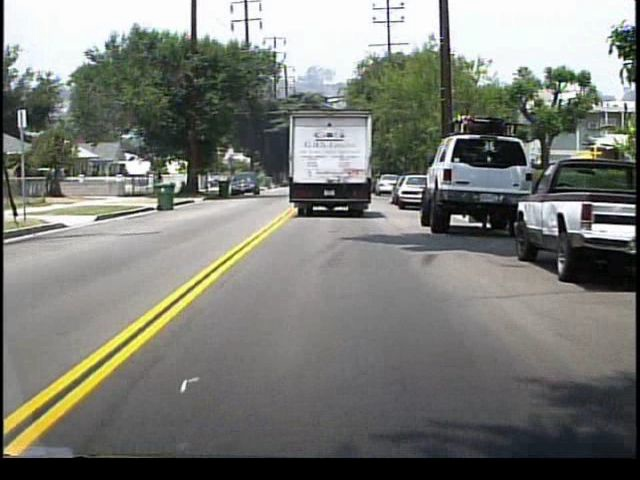person: (155, 168, 166, 195)
